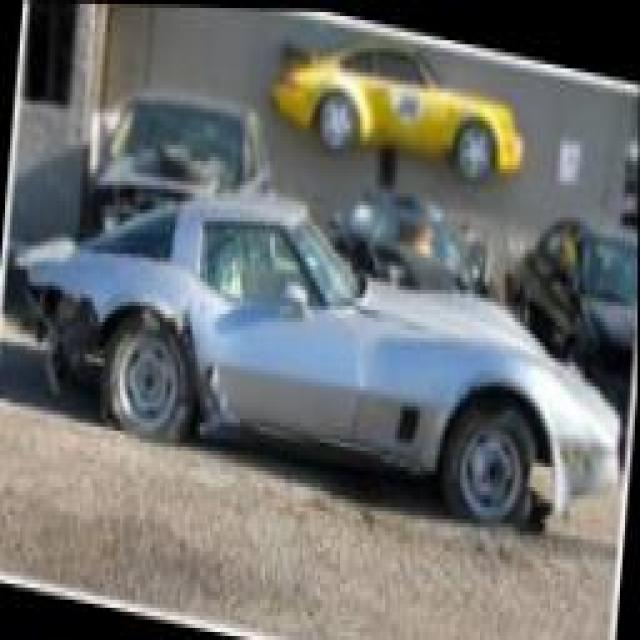Bumper: (21, 280, 98, 406)
Door: (194, 280, 296, 433)
Fender: (15, 248, 199, 328)
